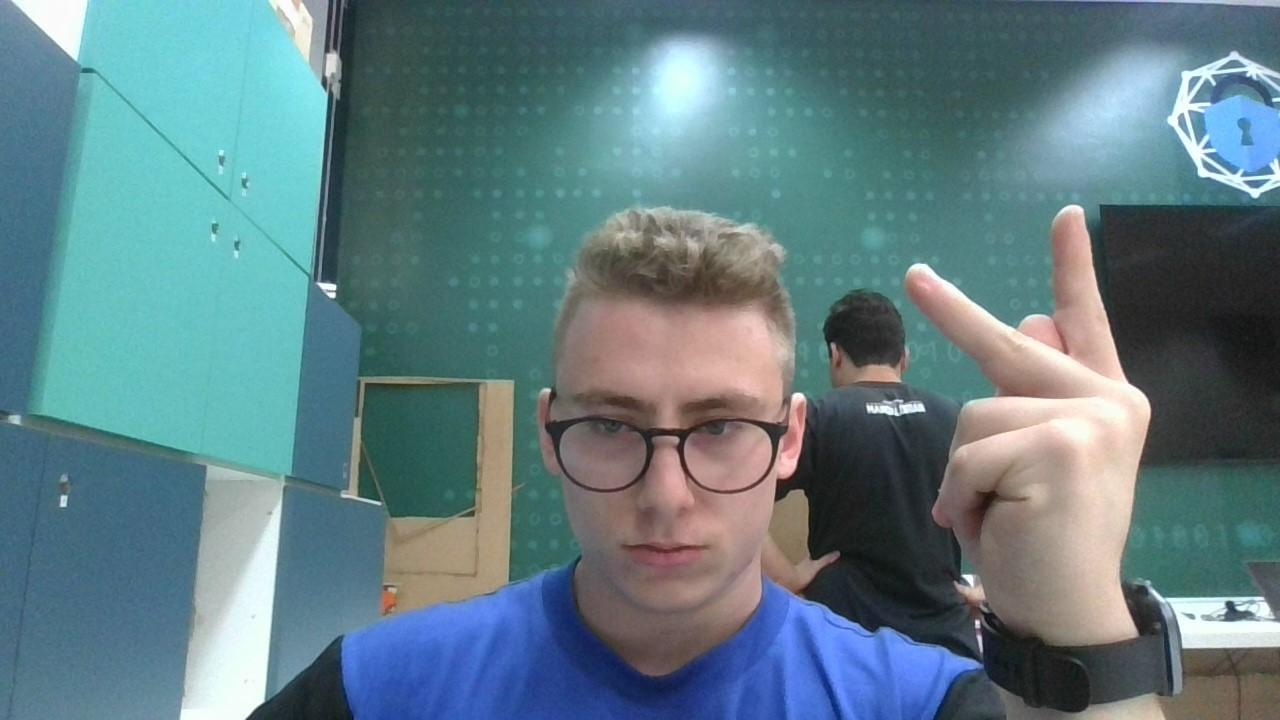K: (890, 200, 1158, 616)
